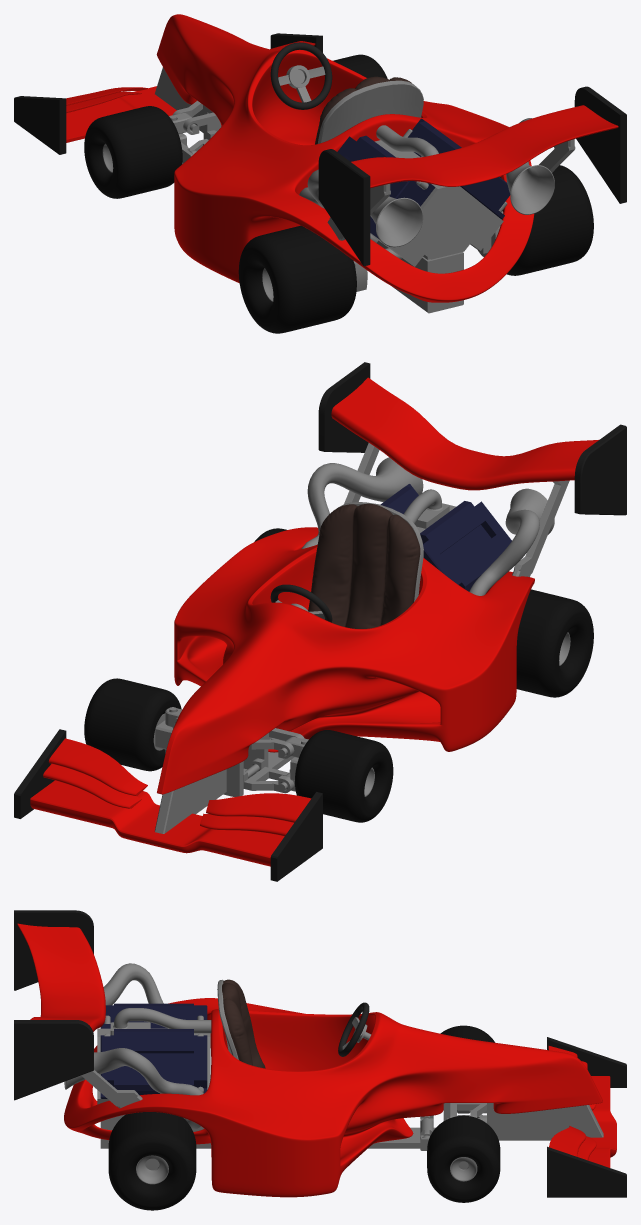
The model's file is racing_kart_concept.glb.
The picture shows the model from 3 angles, top to bottom: view 1: azimuth 30°, elevation 25°; view 2: azimuth 150°, elevation 25°; view 3: azimuth 270°, elevation 25°; orthographic projection. The views are drawn at different scales.
Visible parts, largest first — view 1: body-concept-1, wheel-BR, spoiler-1, spoiler-3, engine-block-cover-1, exhaust-pipe, engine-block-cover-2, chair-backplate, front-wing-1, middle-block, front-wing-3, steering-wheel-torus (+6 smaller); view 2: body-concept-1, wheel-BR, spoiler-1, chair, front-wing-3, front-wing-2, spoiler-3, exhaust-pipe, engine-block-cover-2, front-wing-1, middle-block, suspension-left (+2 smaller); view 3: body-concept-1, wheel-BR, spoiler-3, engine-block-cover-2, spoiler-1, front-wing-1, middle-block, exhaust-pipe, chair, front-wing-3, intake-pipe, front-wing-2 (+6 smaller).
Part boxes in pixels (x1=…): body-concept-1: x1=156, y1=14, x2=534, y2=302; wheel-BR: x1=84, y1=54, x2=593, y2=333; spoiler-1: x1=351, y1=105, x2=618, y2=188; spoiler-3: x1=318, y1=86, x2=626, y2=266; engine-block-cover-1: x1=375, y1=140, x2=503, y2=266; exhaust-pipe: x1=299, y1=118, x2=554, y2=247; engine-block-cover-2: x1=337, y1=118, x2=510, y2=246; chair-backplate: x1=317, y1=80, x2=423, y2=143; front-wing-1: x1=14, y1=33, x2=322, y2=154; middle-block: x1=155, y1=67, x2=463, y2=313; front-wing-3: x1=66, y1=86, x2=176, y2=142; steering-wheel-torus: x1=270, y1=42, x2=332, y2=109; body-concept-1: x1=157, y1=527, x2=534, y2=794; wheel-BR: x1=84, y1=528, x2=593, y2=822; spoiler-1: x1=331, y1=377, x2=599, y2=490; chair: x1=308, y1=503, x2=420, y2=628; front-wing-3: x1=30, y1=780, x2=284, y2=866; front-wing-2: x1=43, y1=738, x2=311, y2=836; spoiler-3: x1=318, y1=362, x2=626, y2=515; exhaust-pipe: x1=301, y1=457, x2=554, y2=595; engine-block-cover-2: x1=380, y1=484, x2=511, y2=591; front-wing-1: x1=14, y1=729, x2=322, y2=881; middle-block: x1=154, y1=738, x2=294, y2=833; suspension-left: x1=153, y1=707, x2=308, y2=793; body-concept-1: x1=64, y1=998, x2=602, y2=1197; wheel-BR: x1=108, y1=1025, x2=500, y2=1210; spoiler-3: x1=14, y1=910, x2=93, y2=1100; engine-block-cover-2: x1=100, y1=1003, x2=207, y2=1098; spoiler-1: x1=17, y1=923, x2=105, y2=1031; front-wing-1: x1=547, y1=1037, x2=626, y2=1197; middle-block: x1=100, y1=1103, x2=603, y2=1148; exhaust-pipe: x1=64, y1=963, x2=203, y2=1129; chair: x1=222, y1=979, x2=265, y2=1068; front-wing-3: x1=588, y1=1076, x2=616, y2=1167; intake-pipe: x1=110, y1=1008, x2=211, y2=1035; front-wing-2: x1=548, y1=1046, x2=596, y2=1160.
Size of what is drawn, in the model's own units: 95.7 by 60 by 184.
